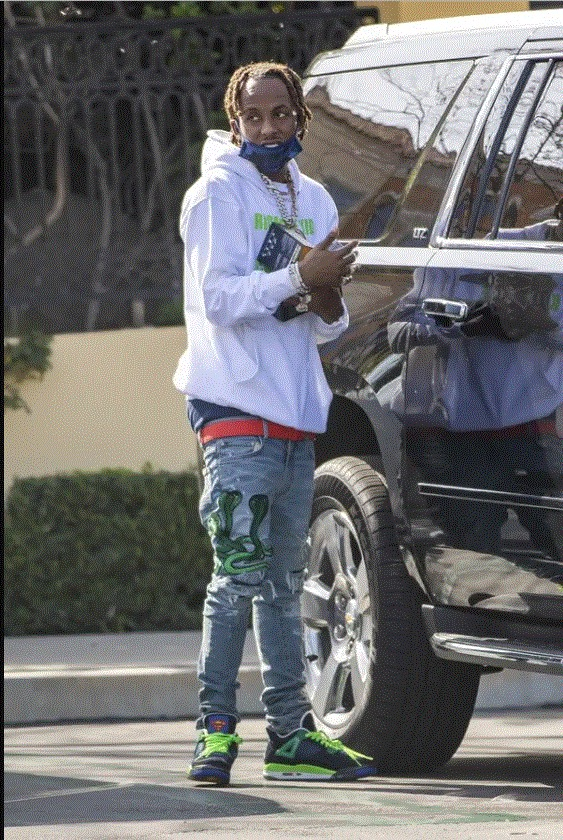mask_weared_incorrect: (242, 92, 297, 167)
